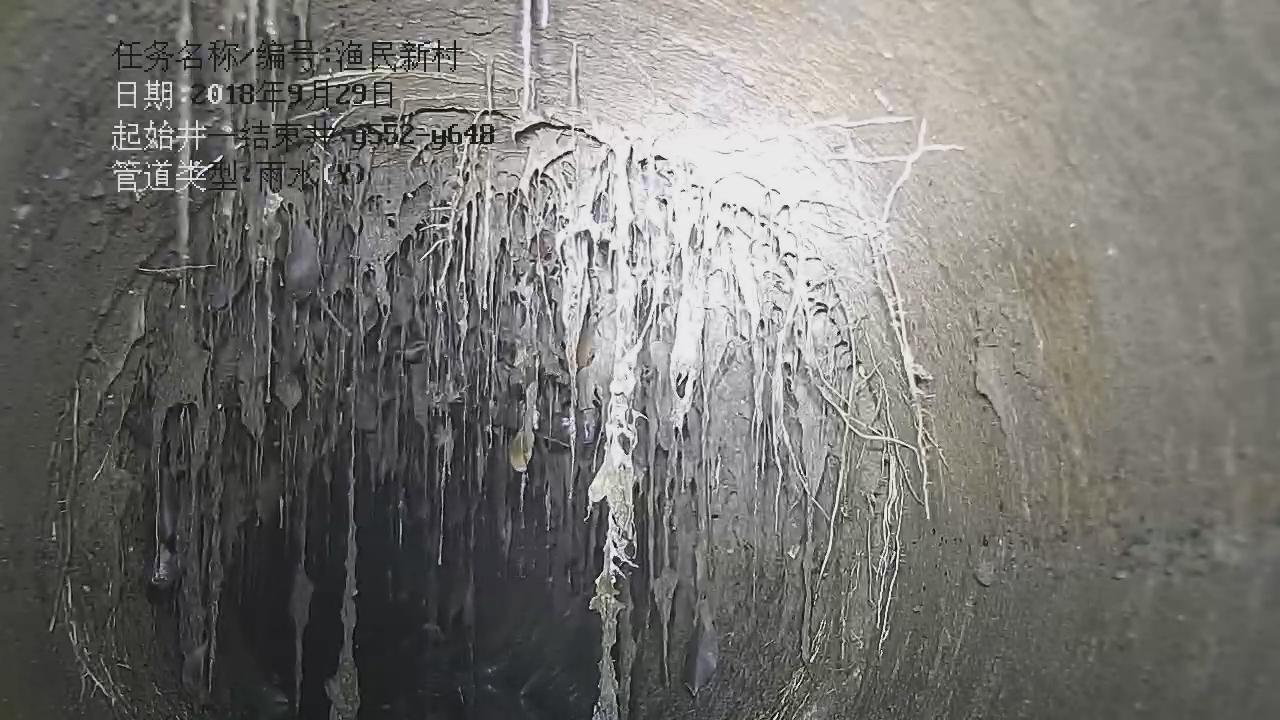SG: (51, 0, 941, 719)
